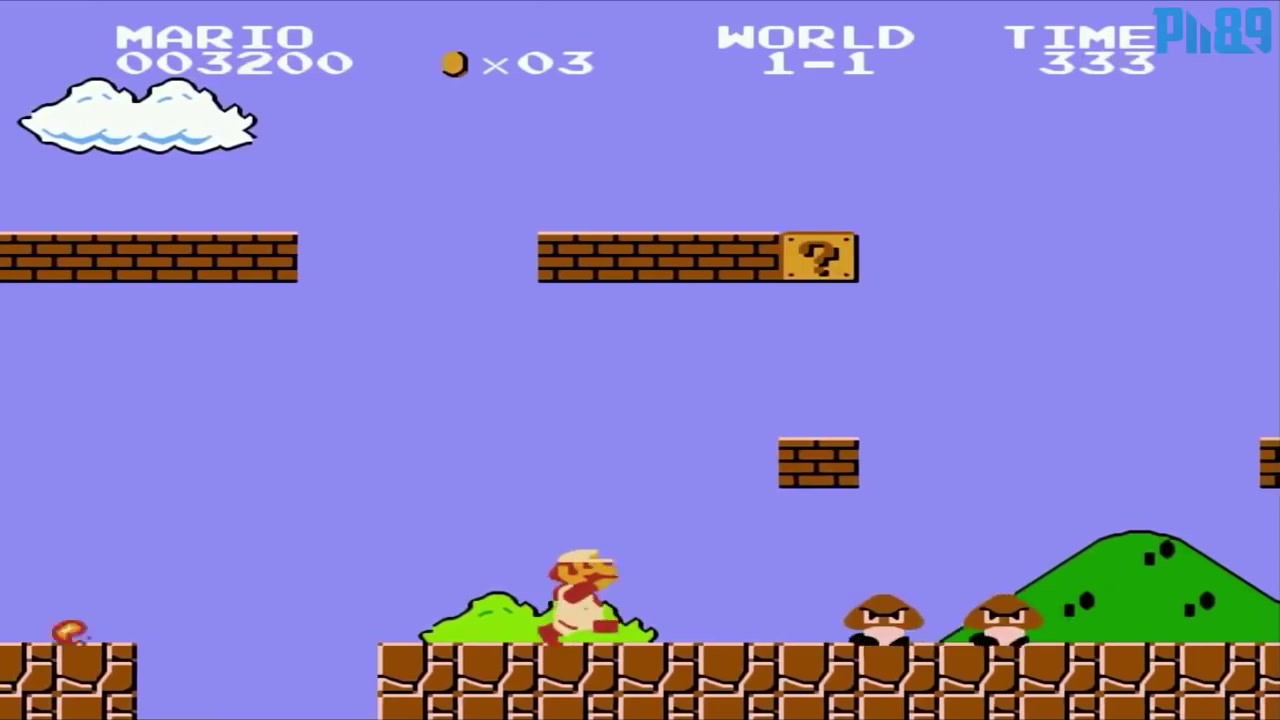mario: (529, 543, 628, 649)
